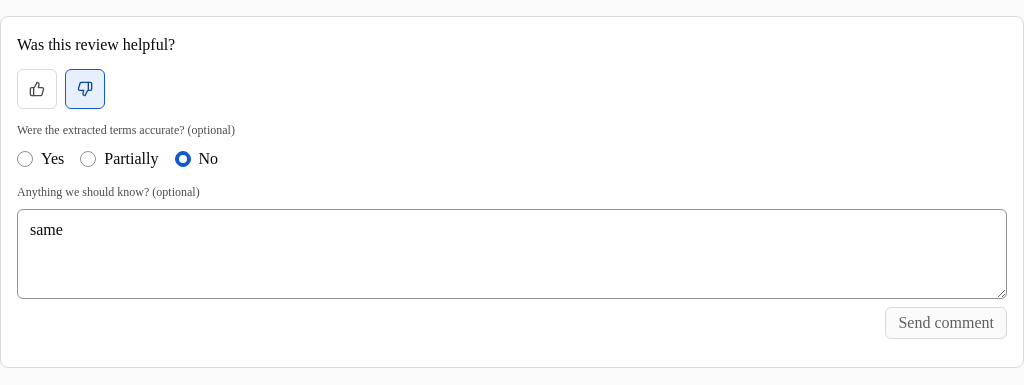
Test: FeedbackWidget › "Send comment" is disabled while the draft equals the saved comment
This screenshot has width=1024, height=385.
Expected: the button "Send comment" is disabled, [886,307,1007,339]
Type "!" into the text box at (512, 254), box [17,209,1007,299]
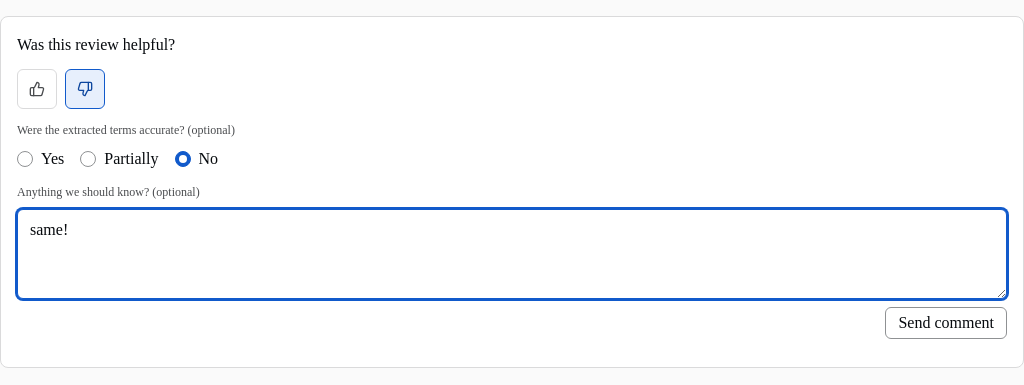
Expected: the button "Send comment" is enabled, [886,307,1007,339]
